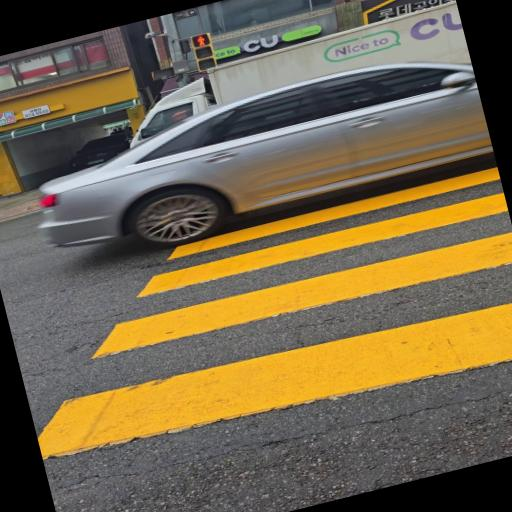yellow-crosswalk: (0, 96, 512, 489)
